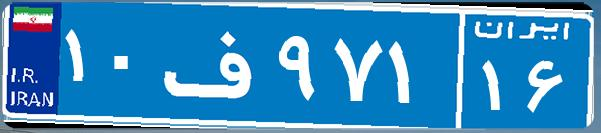0: (110, 28, 158, 105)
1: (385, 28, 445, 110), (57, 26, 110, 107), (475, 38, 525, 113)
6: (525, 38, 570, 115)
7: (330, 28, 385, 110)
9: (273, 28, 330, 110)
ف: (158, 15, 273, 115)
